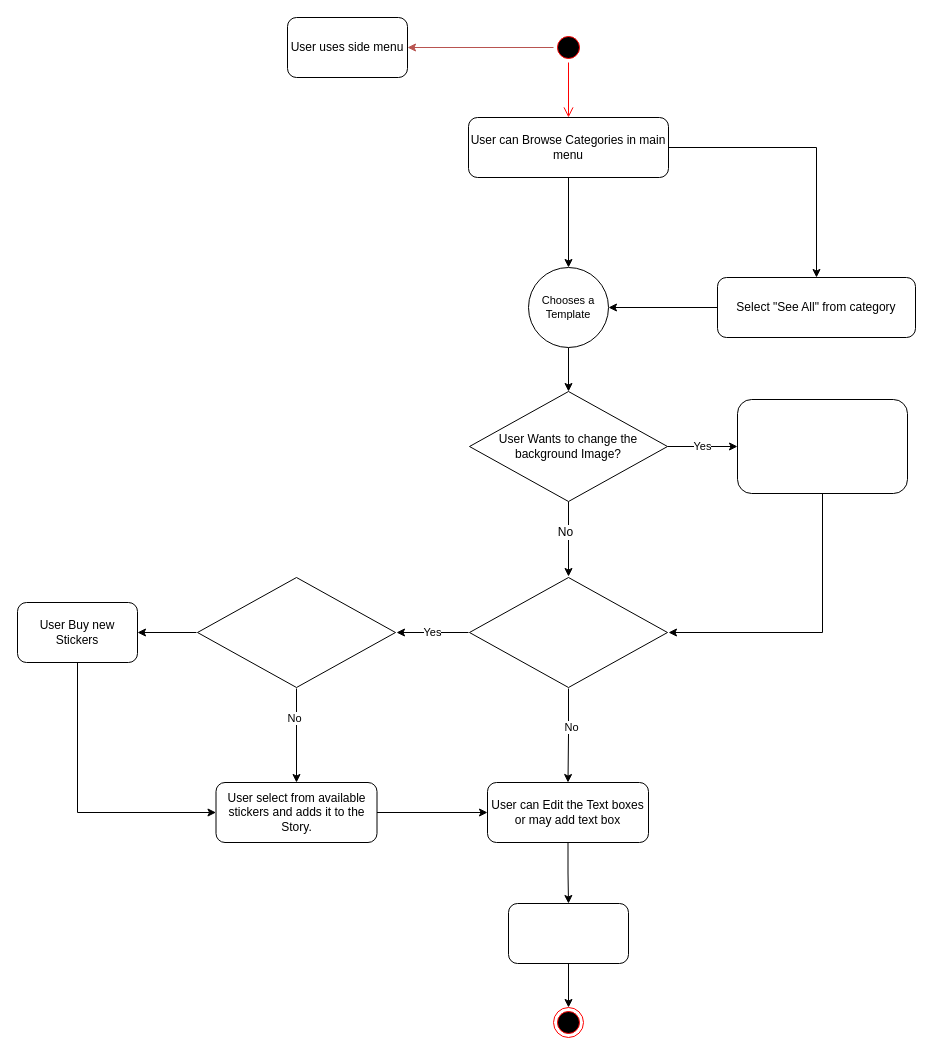
This 933x1055 diagram has some shape labels left out. Each missing label, with the centre of its shape:
"User can share the Story." goes at (x=568, y=933).
"User select required number of images from available images or Gallery/Camera." goes at (x=822, y=446).
"User wants to add stickers to Story?" goes at (x=568, y=632).
"User wants to buy premium sticker?" goes at (x=296, y=632).
